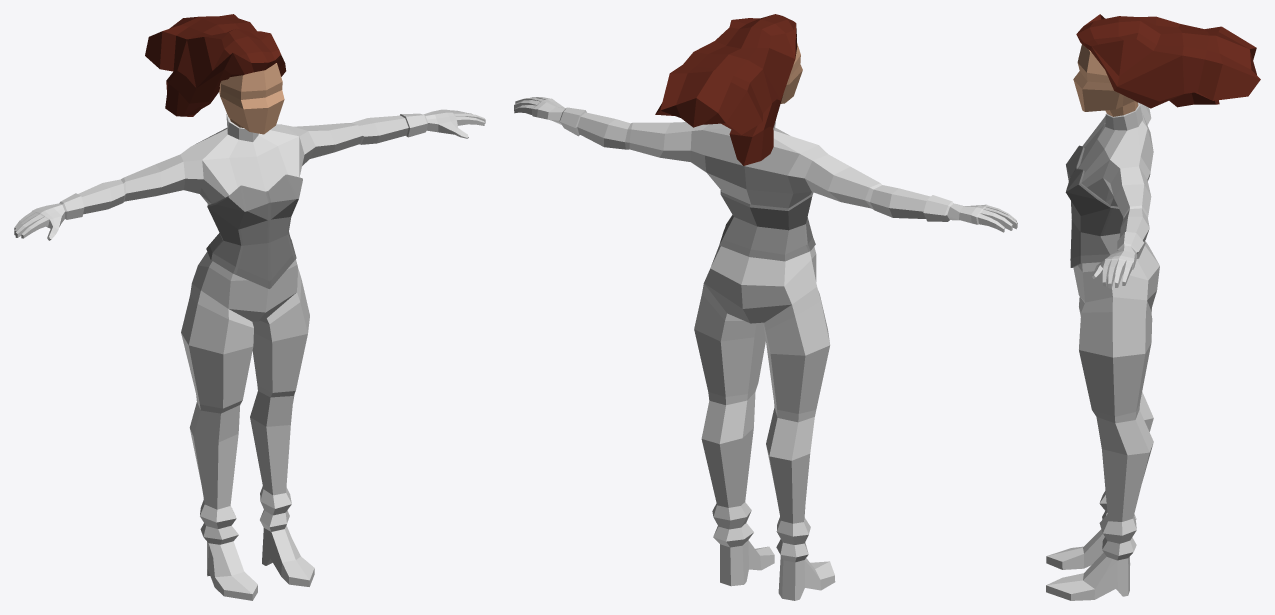
File: Mara V (Personaje) - Facundo Túpac Martínez (rig)- FINAL T POSE - SIN NADA DE NADA NI VERTEX.fbx
3 views of the same model, side by side, from view 1: azimuth 30°, elevation 25°; view 2: azimuth 150°, elevation 25°; view 3: azimuth 270°, elevation 25° (orthographic). The views are drawn at different scales.
Visible parts, largest first — view 1: Mara Head; view 2: Mara Head; view 3: Mara Head.
Boxes of the visible parts, x1,y1,x2,y2 form: Mara Head: (14, 14, 485, 600); Mara Head: (514, 14, 1017, 600); Mara Head: (1046, 14, 1260, 600).
Bounding box in the file's own units: 165 × 179 × 62.62.
